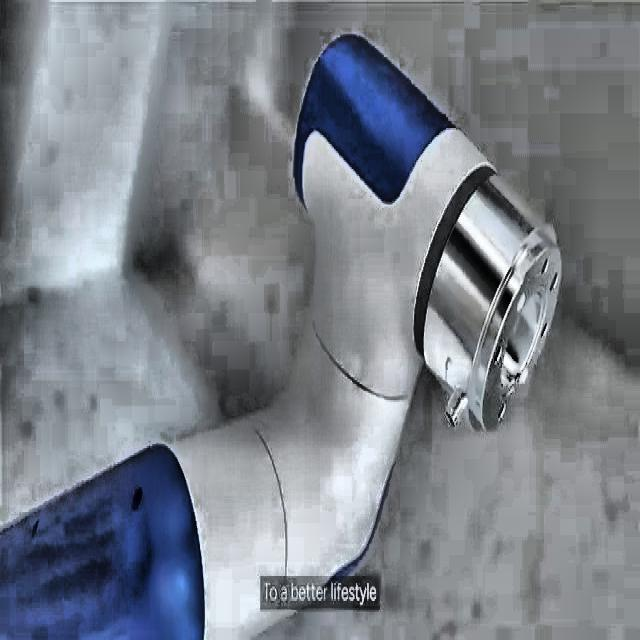robot: (0, 31, 562, 636)
